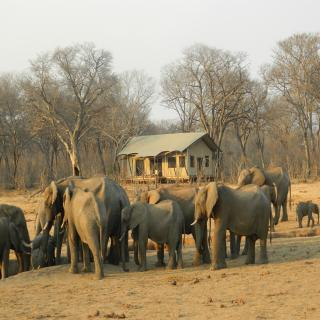Elephant: (33, 176, 132, 278), (190, 180, 281, 273), (58, 184, 114, 284), (117, 198, 186, 274), (238, 162, 293, 226), (294, 198, 320, 229)
